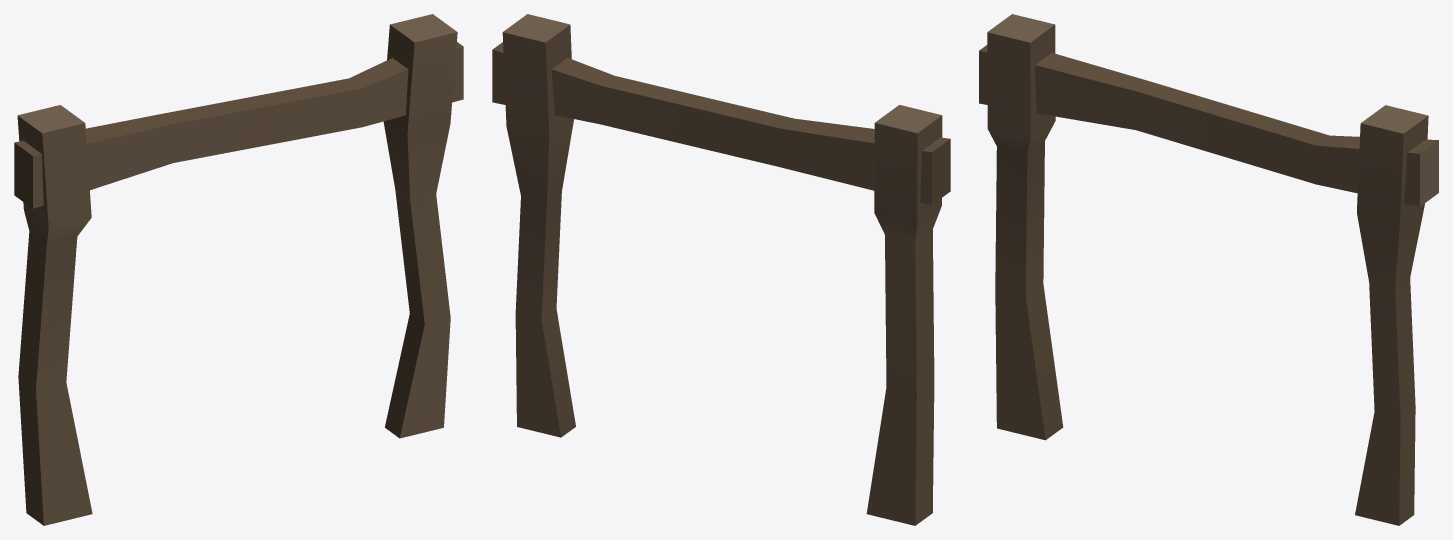
The model's file is SD_Env_Goblin_Tunnel_Supports_01.fbx.
3 views of the same model, side by side, from view 1: azimuth 30°, elevation 25°; view 2: azimuth 150°, elevation 25°; view 3: azimuth 330°, elevation 25° (orthographic).
Visible parts, largest first — view 1: SD_Env_Goblin_Tunnel_Supports_01; view 2: SD_Env_Goblin_Tunnel_Supports_01; view 3: SD_Env_Goblin_Tunnel_Supports_01.
Boxes of the visible parts, <box> form: SD_Env_Goblin_Tunnel_Supports_01: <box>14,14,463,525</box>; SD_Env_Goblin_Tunnel_Supports_01: <box>492,14,950,525</box>; SD_Env_Goblin_Tunnel_Supports_01: <box>979,14,1438,525</box>.
Size of the model in its own units: 4.04 by 3.52 by 0.4761.
